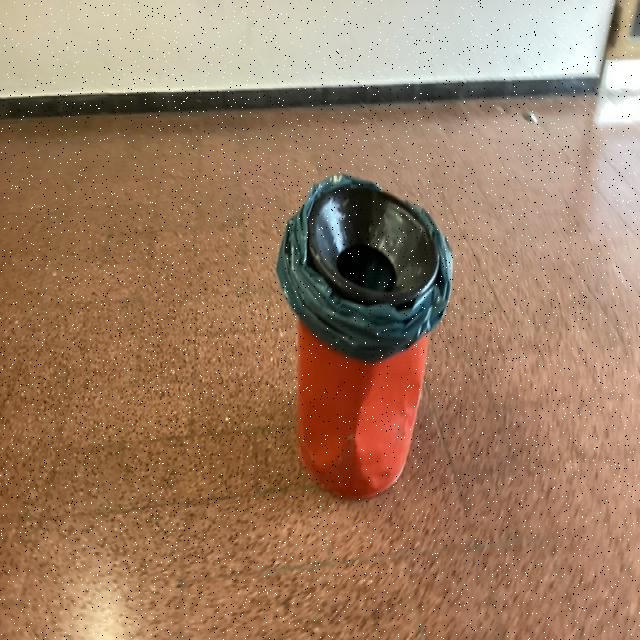garbage container: (258, 144, 468, 512)
